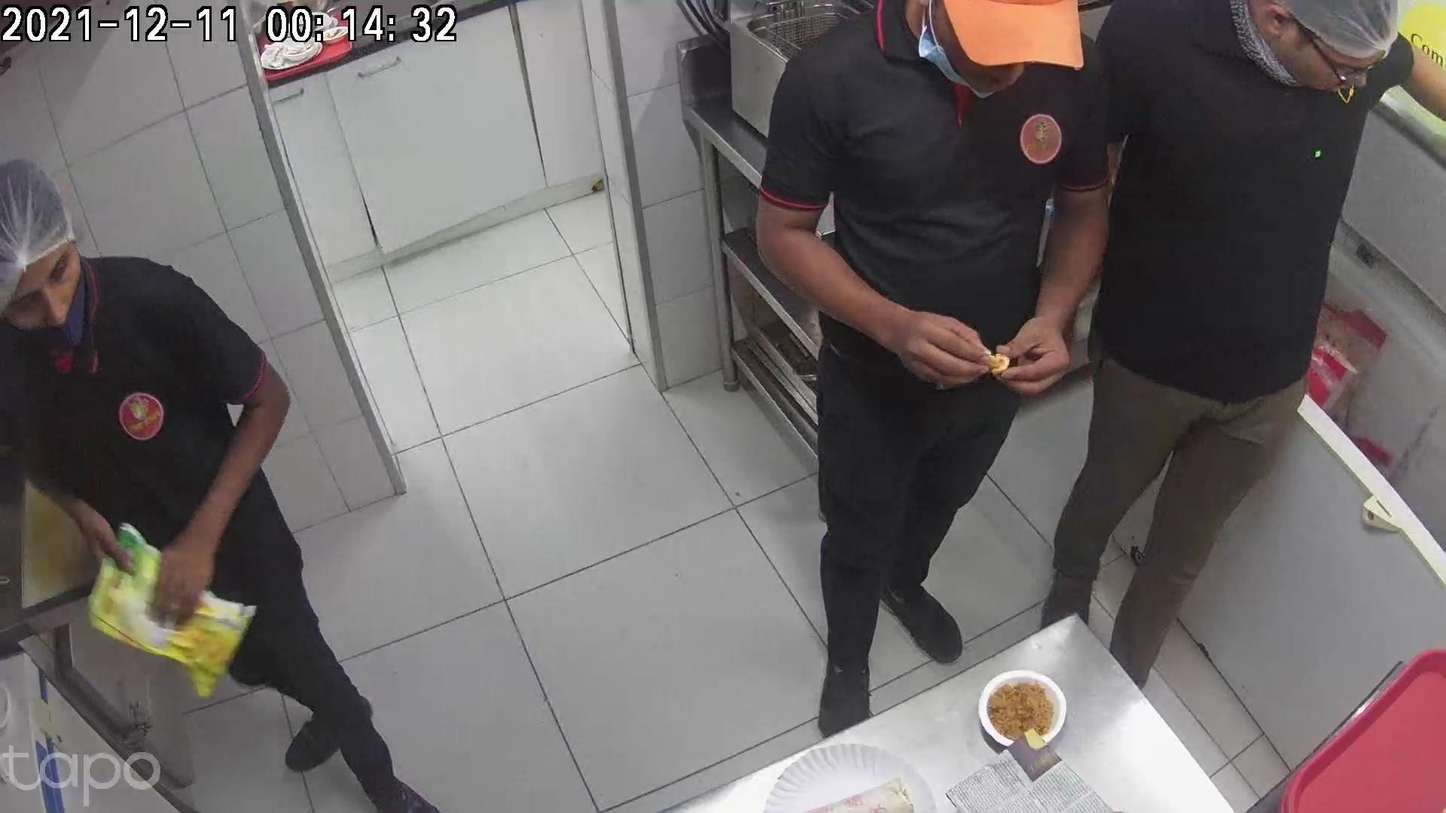gloves: (793, 660, 892, 809)
